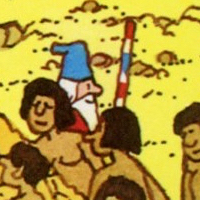wb: (66, 38, 104, 107)
